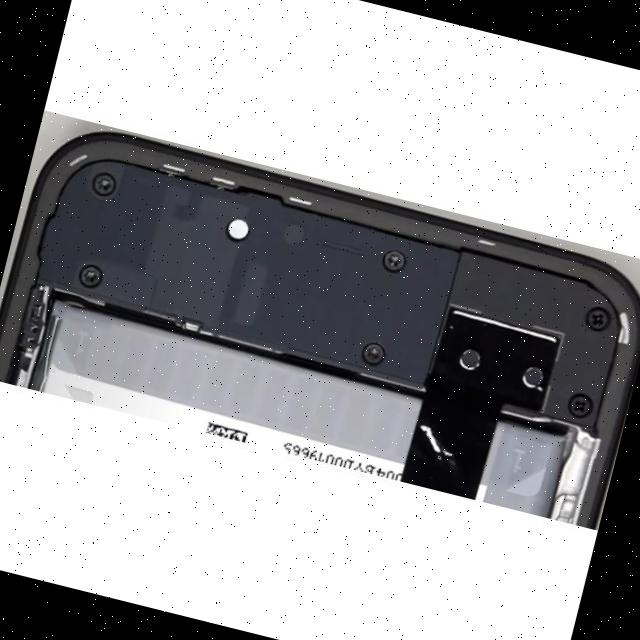Torx: (89, 170, 118, 198), (77, 262, 104, 290), (359, 340, 386, 368), (380, 248, 407, 274)
